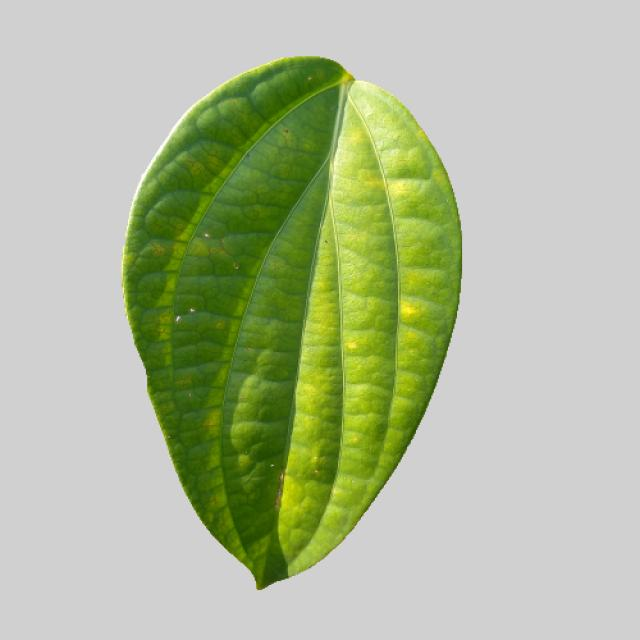healthy: (115, 48, 474, 598)
